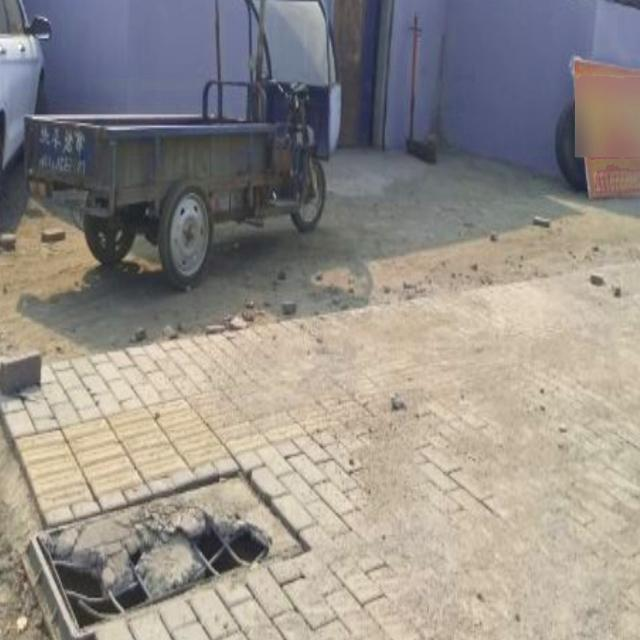broke: (25, 465, 312, 640)
